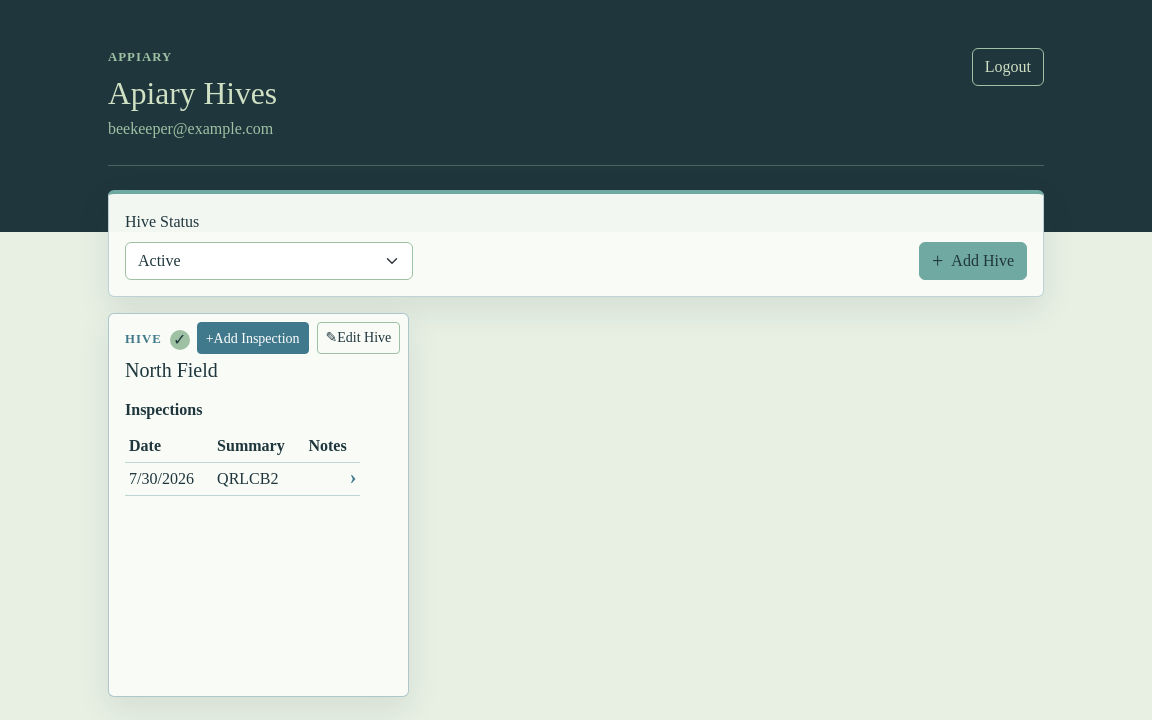
Test case: HivesDashboardComponent › opens historical inspections in read-only mode
# when its history row is clicked
What coordinates should you click on to do the following:
click the row named "View inspection from 7/30/2026"
I would click on:
 (243, 479)
Its box is [125,463,360,496].
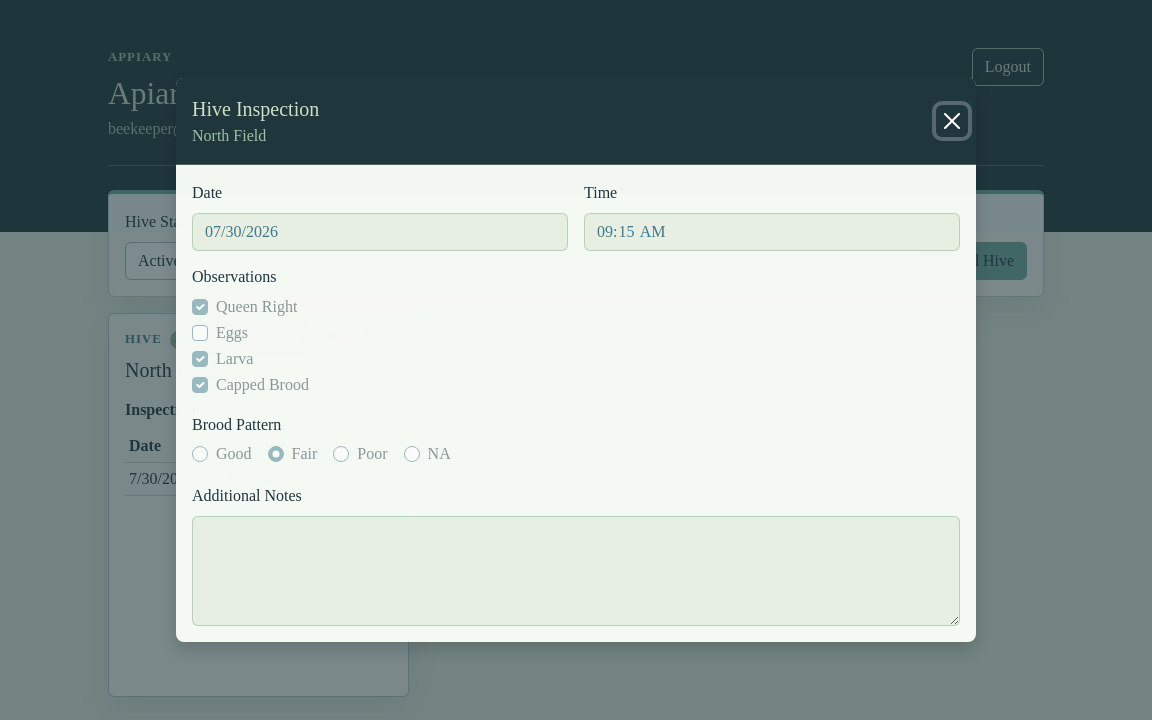
Now the date field with id "inspection-date" is disabled, box [192,213,568,251]
